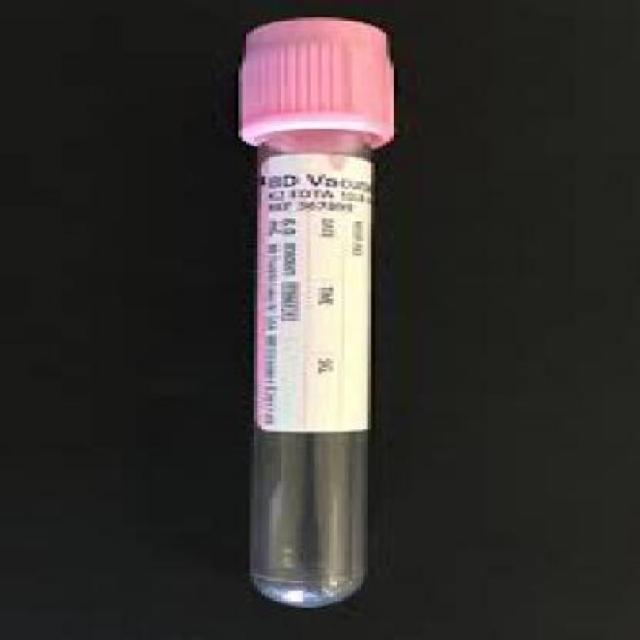Experimental-tube: (230, 18, 393, 608)
